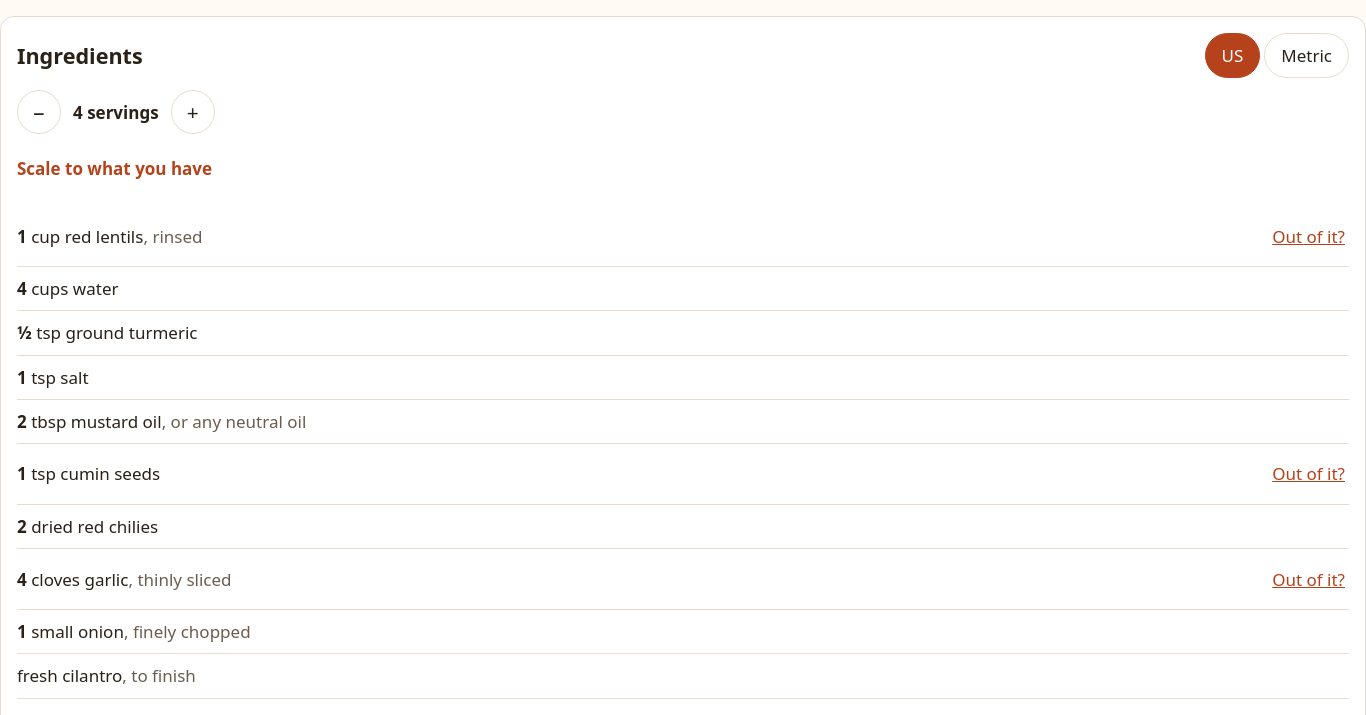
it: Scale to what you have › explains amounts it cannot use
Step 1. Click the heading "Scale to what you have" → (115, 168), box top-left (17, 157), bottom-right (212, 180)
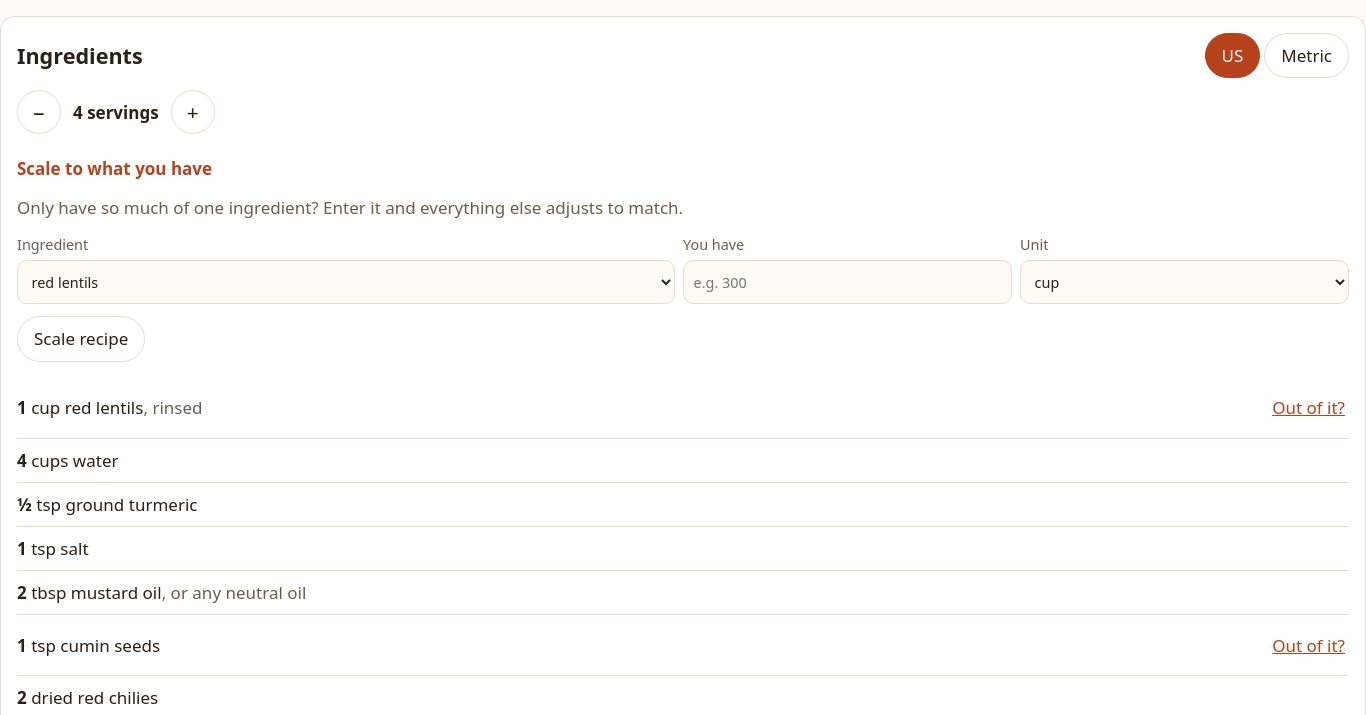
Step 2. Select "red lentils" in the dropdown labelled "Ingredient" → (346, 282), box top-left (17, 260), bottom-right (675, 304)
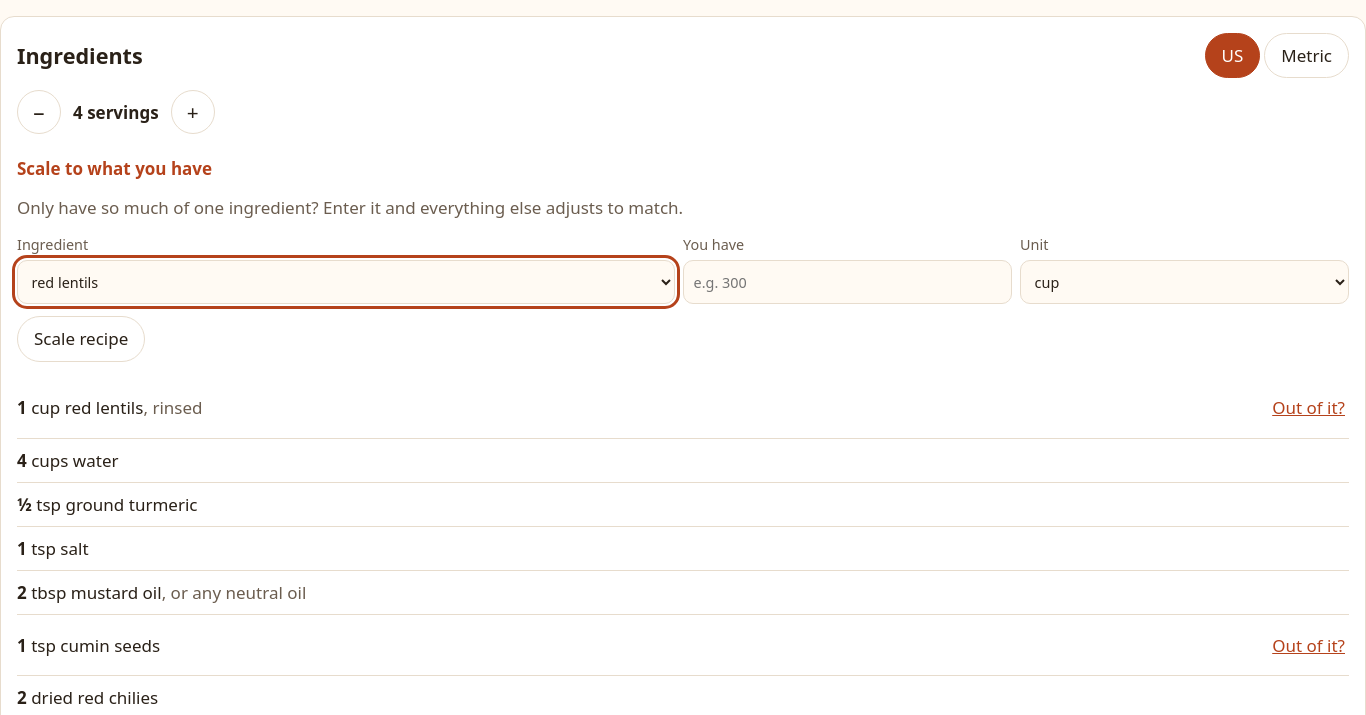
Step 3. Type "lots" into the field labelled "You have" → (848, 282), box top-left (683, 260), bottom-right (1012, 304)
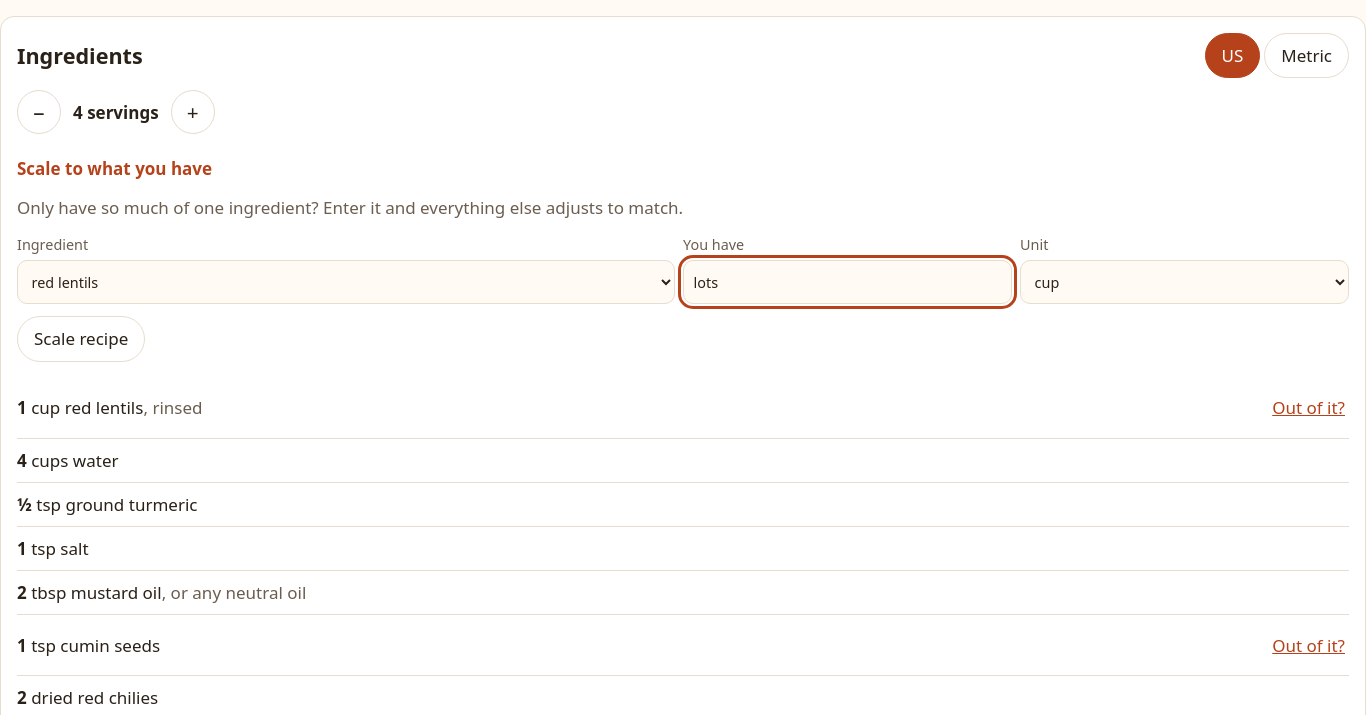
Step 4. Click the button "Scale recipe" → (81, 339), box top-left (17, 316), bottom-right (145, 362)
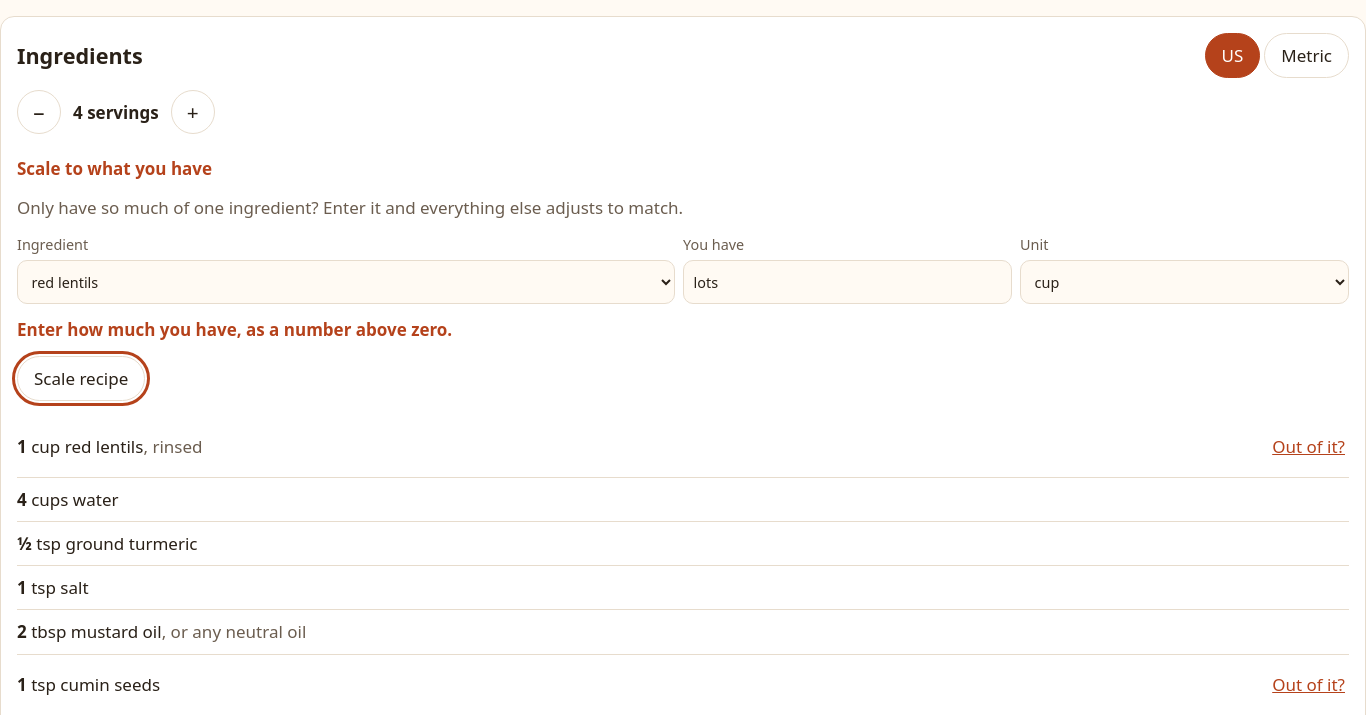
Check: the message shows "number above zero", box top-left (17, 318), bottom-right (452, 341)
